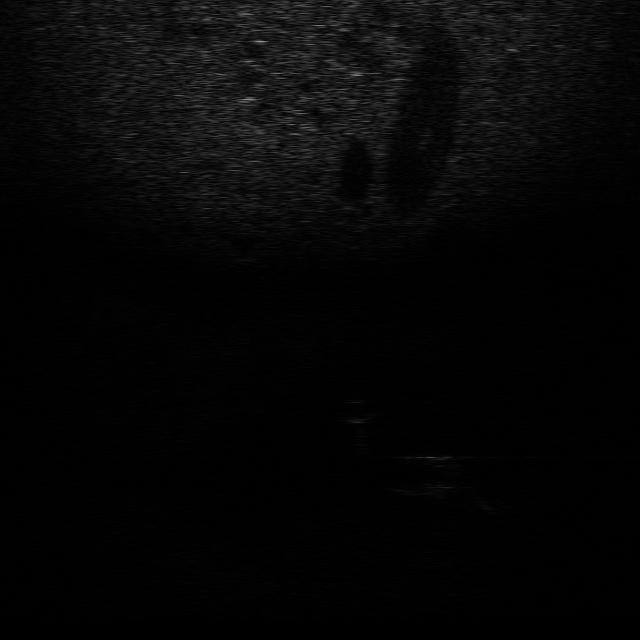ball: (330, 391, 381, 424)
tyre: (372, 451, 468, 497)
